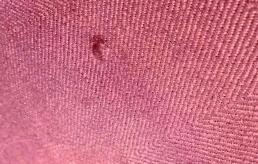knot: (87, 32, 114, 64)
